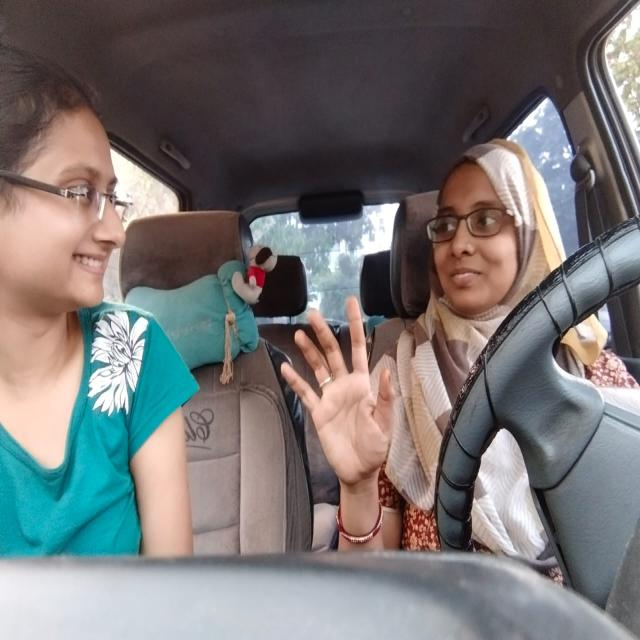LeftRight: (6, 63, 126, 319), (418, 154, 533, 302)
talking: (67, 239, 111, 276), (446, 267, 491, 287)
